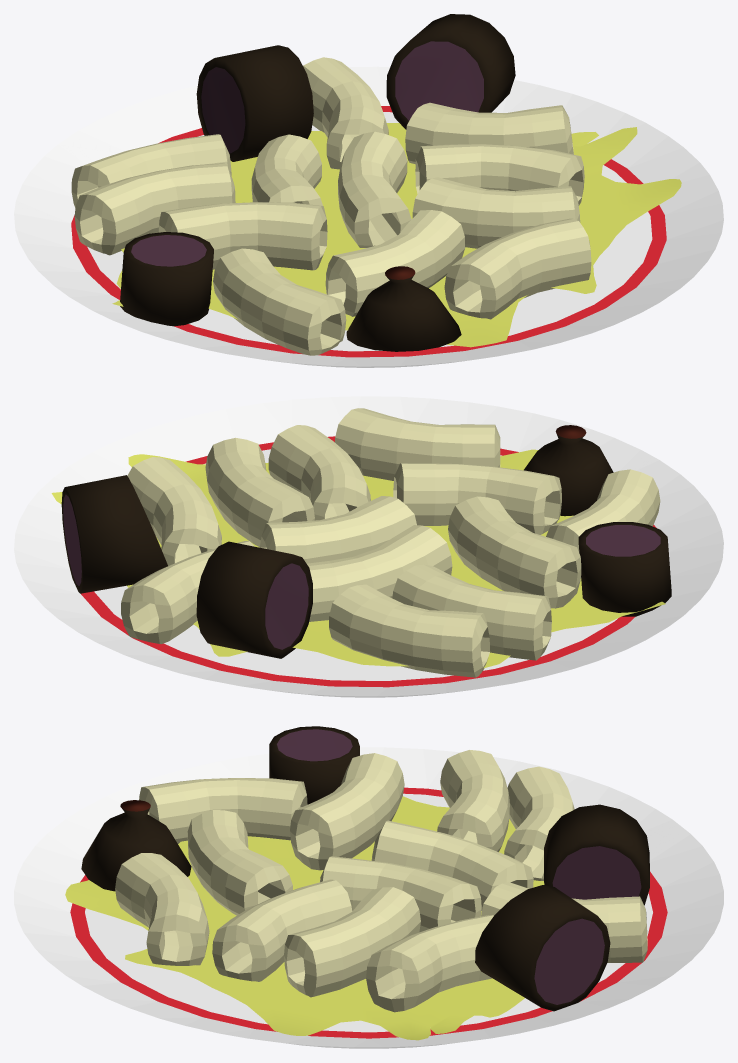
The model's file is plated_dogged_mac.fbx.
3 renders of one model, top to bottom at view 1: azimuth 30°, elevation 25°; view 2: azimuth 150°, elevation 25°; view 3: azimuth 270°, elevation 25°, orthographic.
Visible parts, largest first — view 1: Noodles, Plate, HotdogSlice, Cheese; view 2: Noodles, Plate, HotdogSlice, Cheese; view 3: Noodles, Plate, HotdogSlice, Cheese.
Boxes of the visible parts, left/top/right/bottom form: Noodles: left=71, top=57, right=591, bottom=355; Plate: left=14, top=66, right=723, bottom=367; HotdogSlice: left=120, top=14, right=515, bottom=351; Cheese: left=112, top=123, right=681, bottom=347; Noodles: left=121, top=408, right=660, bottom=677; Plate: left=14, top=396, right=723, bottom=697; HotdogSlice: left=61, top=425, right=671, bottom=658; Cheese: left=51, top=449, right=665, bottom=667; Noodles: left=115, top=750, right=647, bottom=1012; Plate: left=14, top=747, right=723, bottom=1048; HotdogSlice: left=81, top=726, right=649, bottom=1011; Cheese: left=65, top=796, right=544, bottom=1040.
Bounding box in the file's own units: 56.7 × 10.41 × 56.7.
